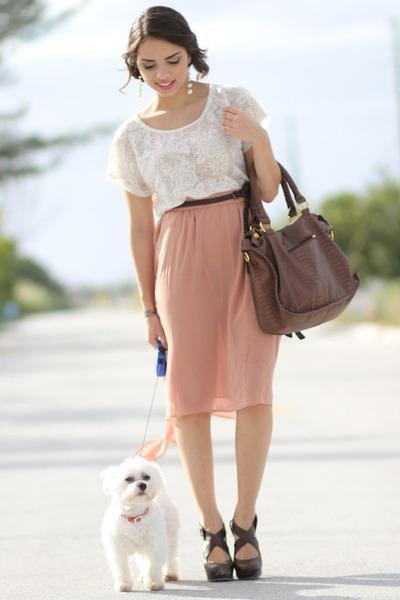bag: (241, 199, 358, 339)
shirt: (117, 84, 264, 225)
shoe: (208, 540, 251, 581)
skirt: (136, 189, 281, 462)
